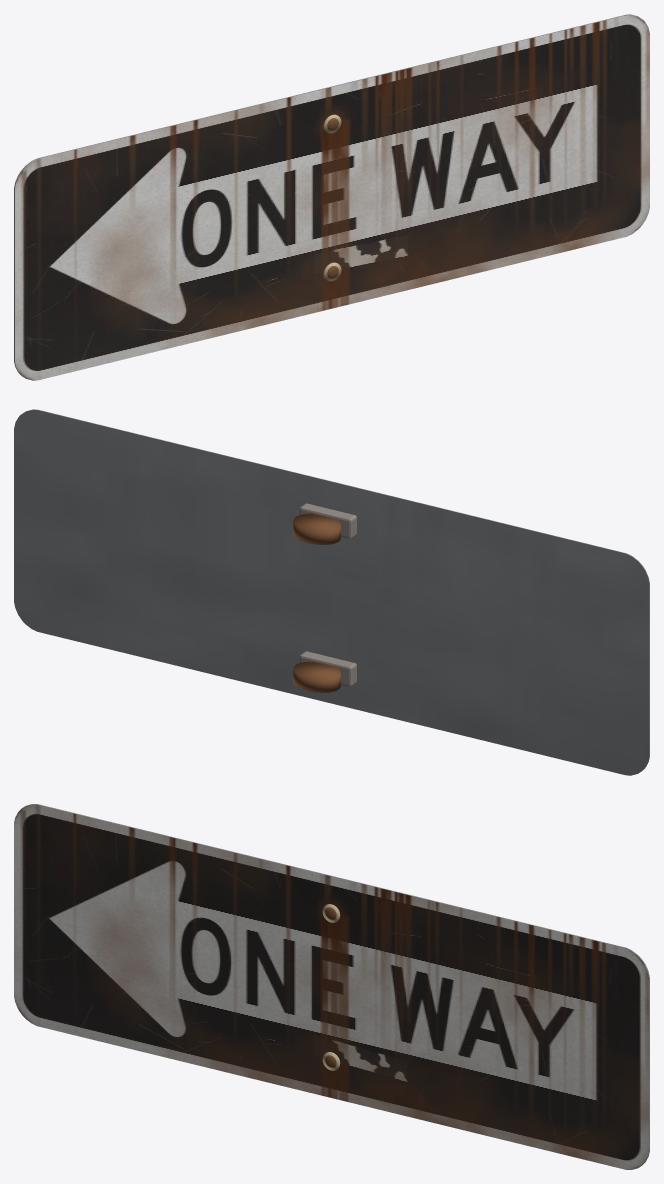
Rendered from oneWayLeft-v1-rusty.glb.
3 views of the same model, one above another, from view 1: azimuth 30°, elevation 25°; view 2: azimuth 150°, elevation 25°; view 3: azimuth 330°, elevation 25° (orthographic).
Parts seen in each view (by area): view 1: oneWayLeft-v1-rusty; view 2: oneWayLeft-v1-rusty; view 3: oneWayLeft-v1-rusty.
Part boxes in pixels (x1,y1,x2,y2): oneWayLeft-v1-rusty: (14, 14, 649, 380); oneWayLeft-v1-rusty: (14, 409, 649, 775); oneWayLeft-v1-rusty: (14, 804, 649, 1169).
Bounding box in the file's own units: 1.22 × 0.4066 × 0.0871.
1 material, 1 textured.
